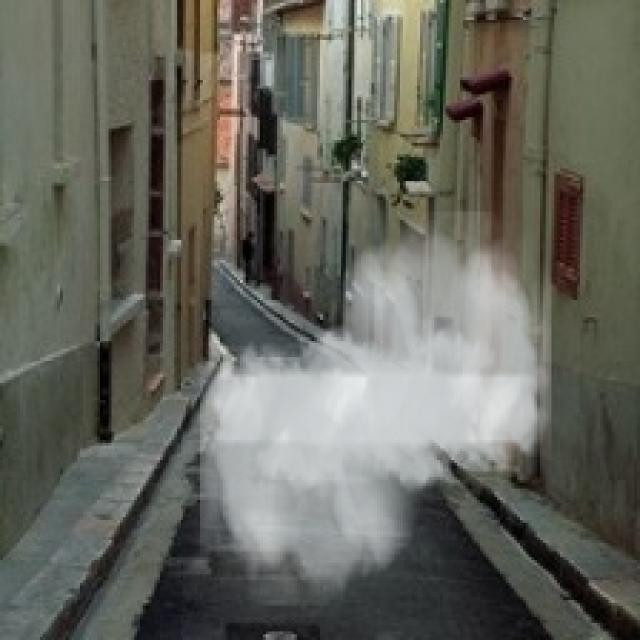smoke: (200, 211, 551, 606)
